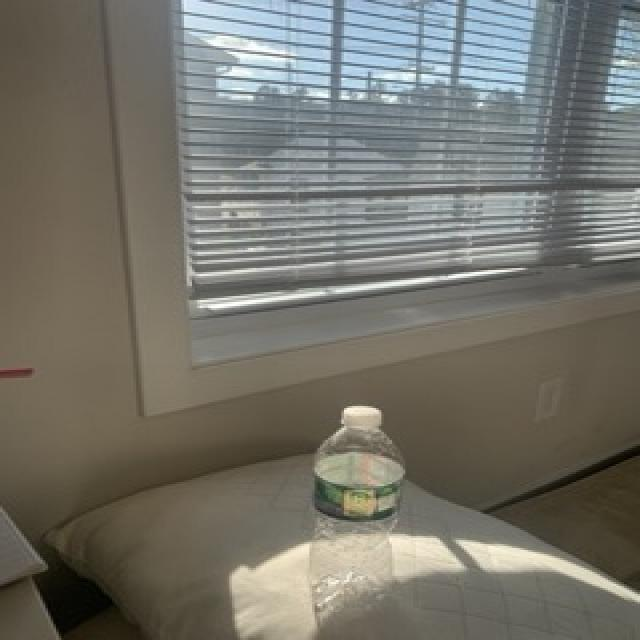water_bottle: (308, 403, 407, 618)
